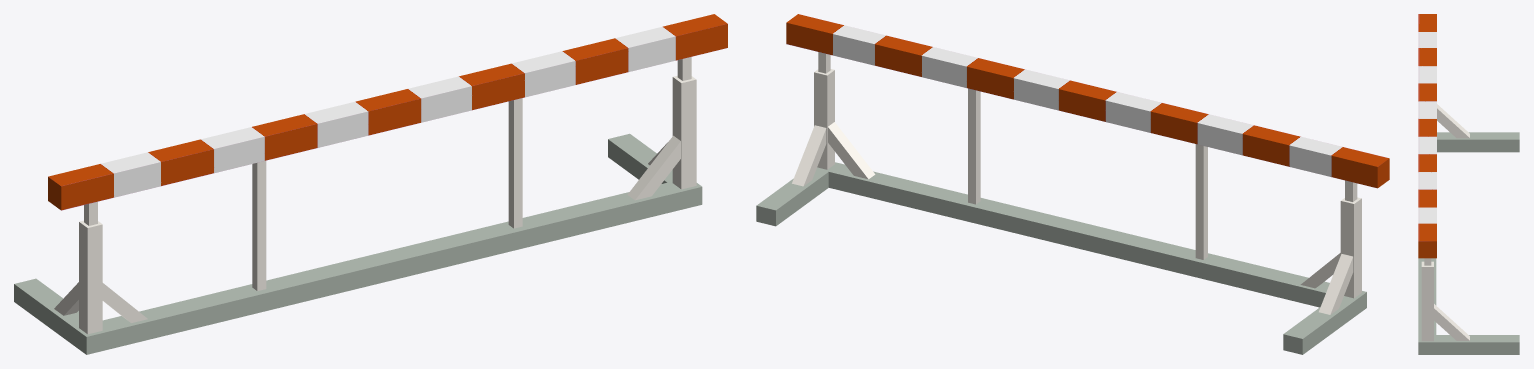
File: Steeplechase_man_water.FBX
3 views of the same model, side by side, from view 1: azimuth 30°, elevation 25°; view 2: azimuth 150°, elevation 25°; view 3: azimuth 270°, elevation 25° (orthographic). The views are drawn at different scales.
Parts seen in each view (by area): view 1: Steeplechase_man_water; view 2: Steeplechase_man_water; view 3: Steeplechase_man_water.
Part boxes in pixels (x1=…): Steeplechase_man_water: x1=14, y1=14, x2=727, y2=354; Steeplechase_man_water: x1=756, y1=14, x2=1389, y2=354; Steeplechase_man_water: x1=1418, y1=14, x2=1519, y2=354.
Bounding box in the file's own units: 36.6 × 9.28 × 6.89.
